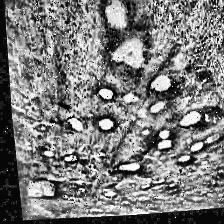pothole: (104, 35, 148, 75), (15, 176, 58, 208), (102, 1, 130, 40), (184, 132, 220, 160), (136, 176, 174, 198), (173, 108, 199, 136), (146, 74, 172, 100), (109, 160, 137, 180), (154, 130, 170, 158), (61, 114, 80, 134), (93, 118, 112, 138), (94, 88, 114, 106), (145, 103, 163, 119), (61, 152, 77, 170), (171, 155, 189, 170), (96, 186, 112, 202)
